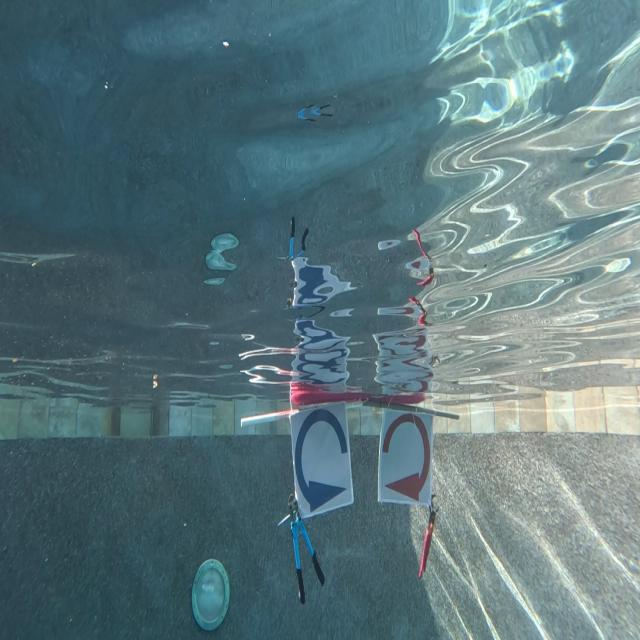blue_side: (289, 409, 350, 508)
red_side: (378, 409, 430, 501)
